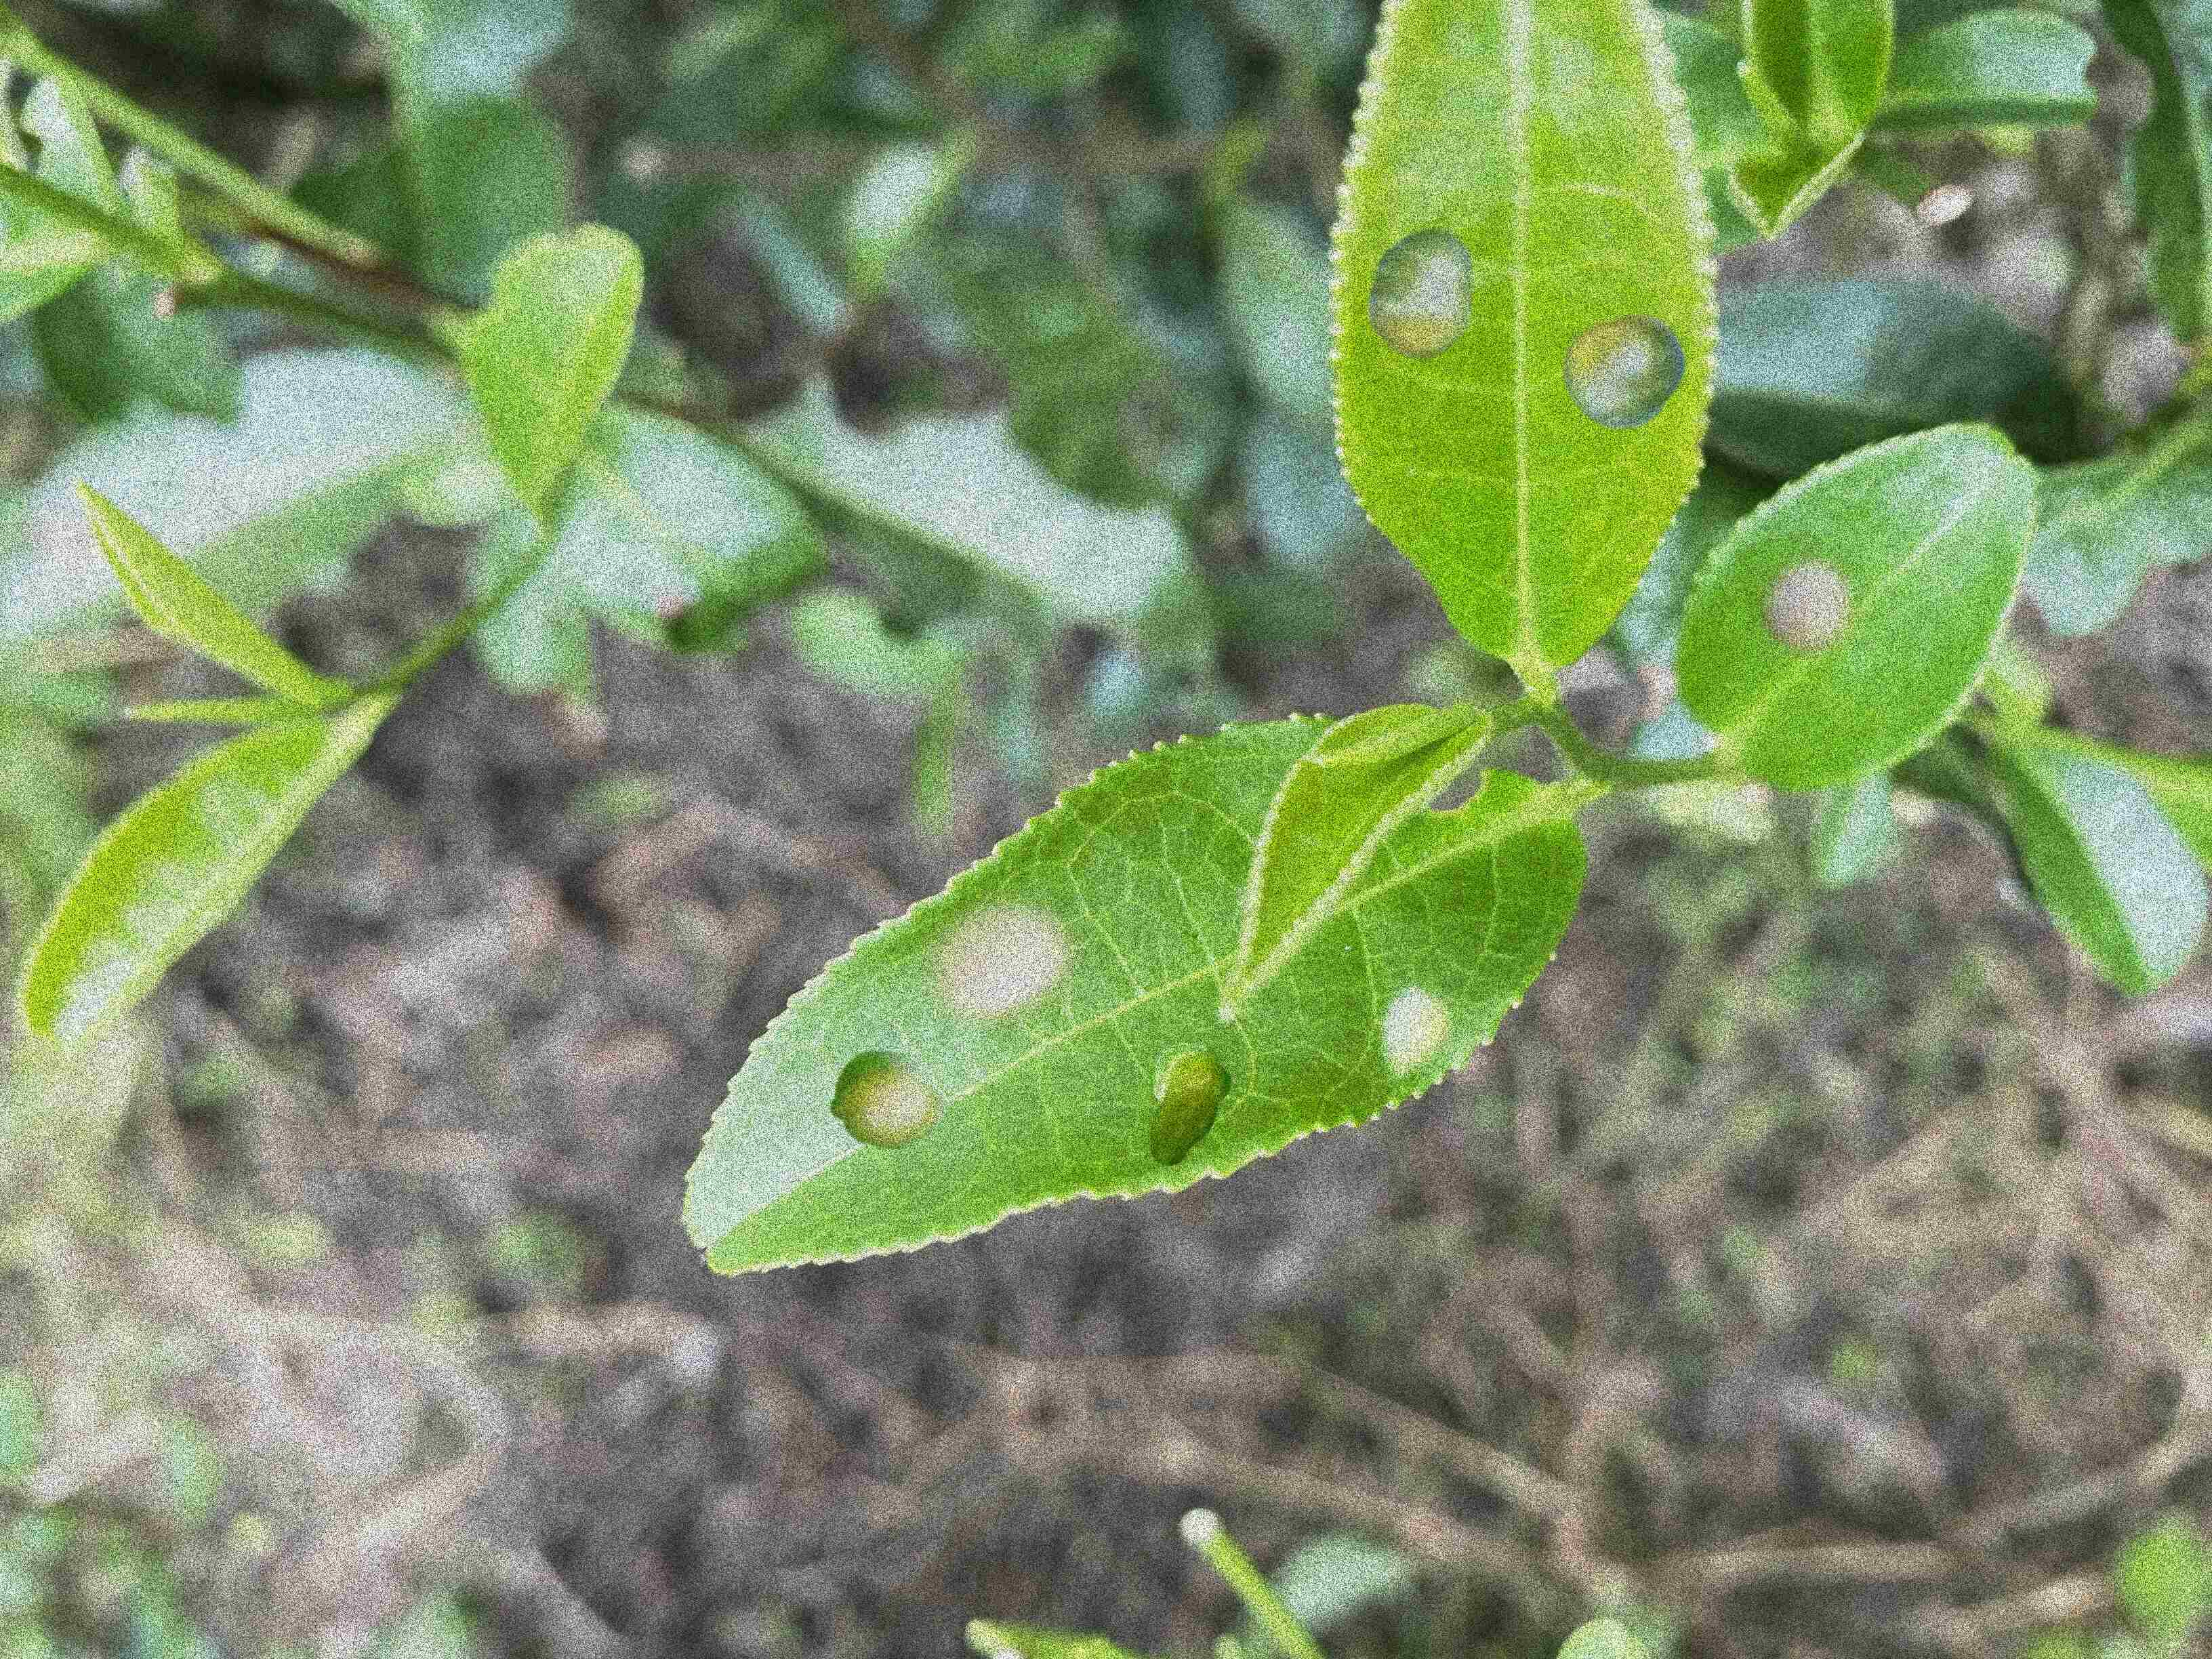chabing_high: (681, 708, 1592, 1281), (1329, 3, 1723, 671)
chabing_low: (1670, 420, 2041, 791)
healthy: (1219, 704, 1491, 1021)
